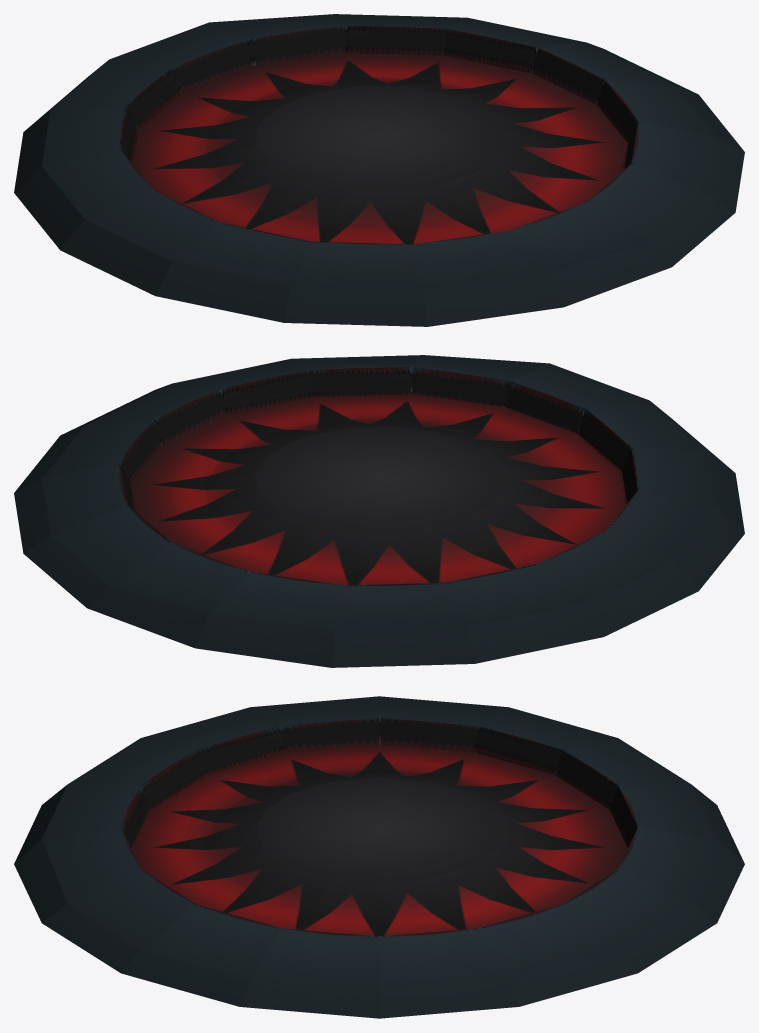
File: sm_platform.fbx
The picture shows the model from 3 angles, top to bottom: view 1: azimuth 30°, elevation 25°; view 2: azimuth 150°, elevation 25°; view 3: azimuth 270°, elevation 25°; orthographic projection.
Visible parts, largest first — view 1: Sphere001; view 2: Sphere001; view 3: Sphere001.
Boxes of the visible parts, left/top/right/bottom form: Sphere001: left=14, top=14, right=744, bottom=326; Sphere001: left=14, top=355, right=744, bottom=667; Sphere001: left=14, top=696, right=744, bottom=1018.
Size of the model in its own units: 40 by 2.33 by 40.
1 material, 1 textured.
